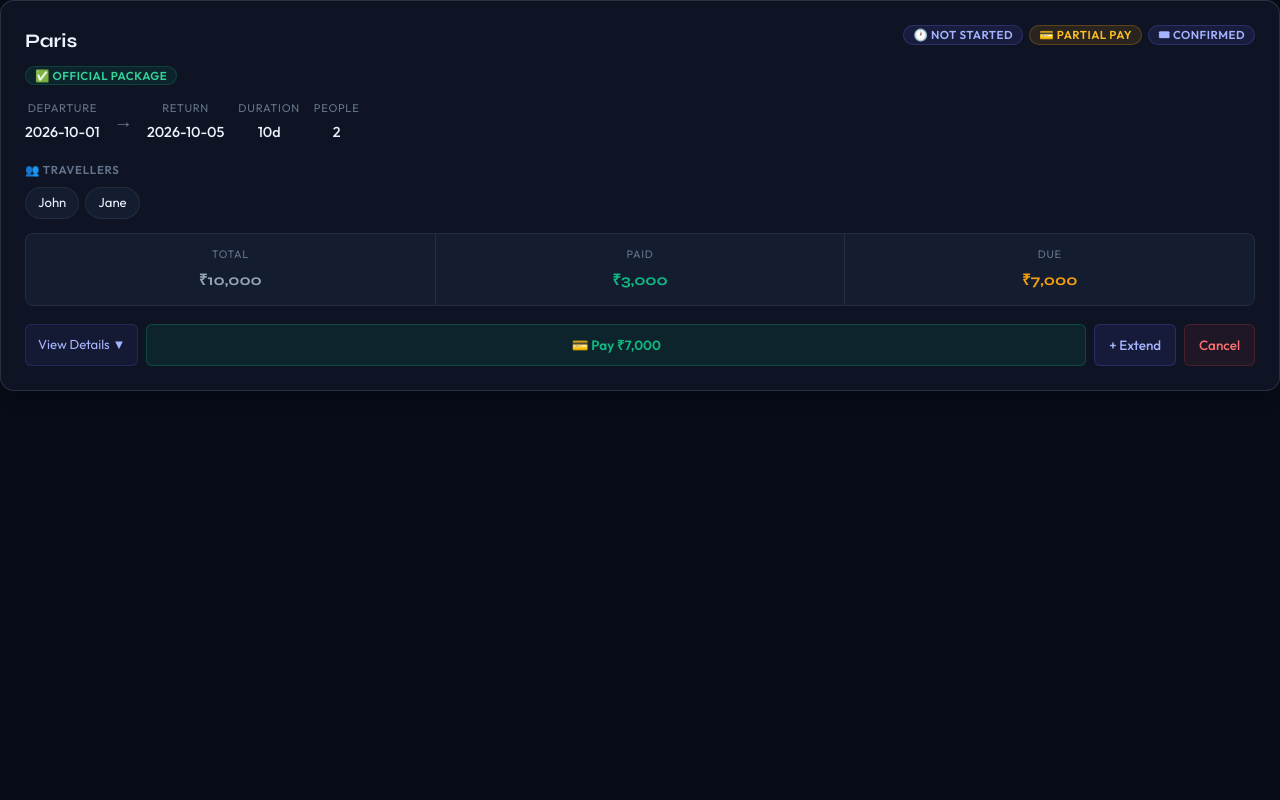
Test: BookingCard Component › extend modal blocks extension when trip is already at max days (10)
Step 1. Click the button "+ Extend" → (1135, 345), box [1094, 324, 1176, 366]
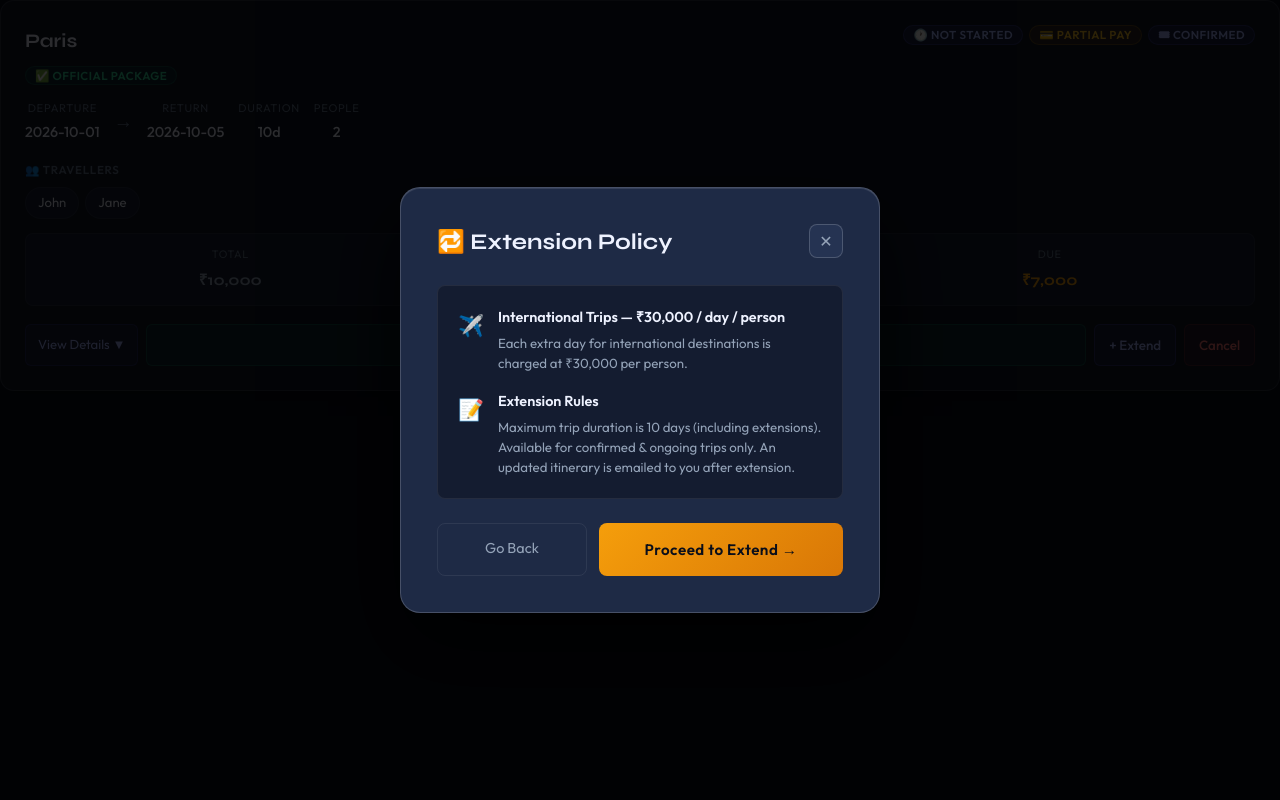
Check: the text "🔁 Extension Policy" is shown, box [437, 224, 672, 261]
Step 2. Click the button "Proceed to Extend →" → (721, 549), box [599, 522, 843, 576]
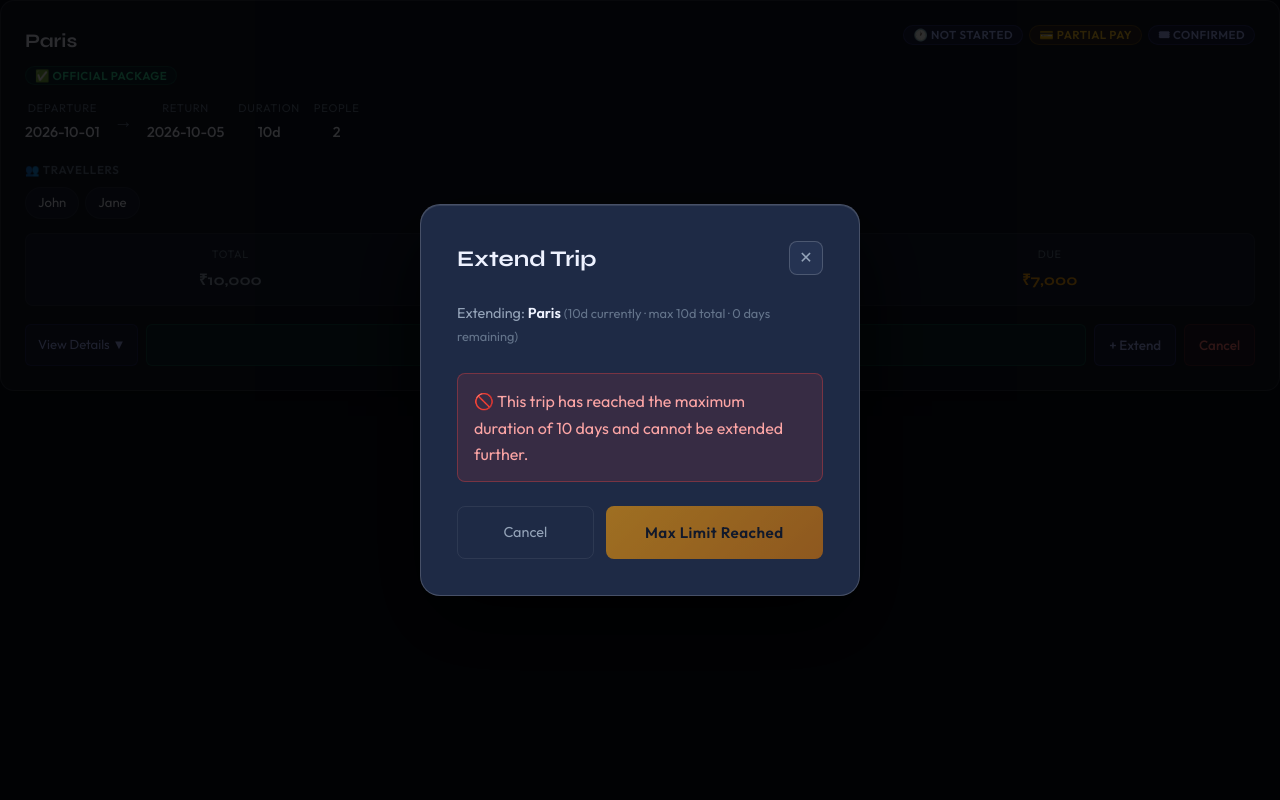
Check: the text "maximum duration of 10 days" is shown, box [457, 373, 823, 482]
Check: the button "Max Limit Reached" is disabled, box [606, 506, 823, 559]
